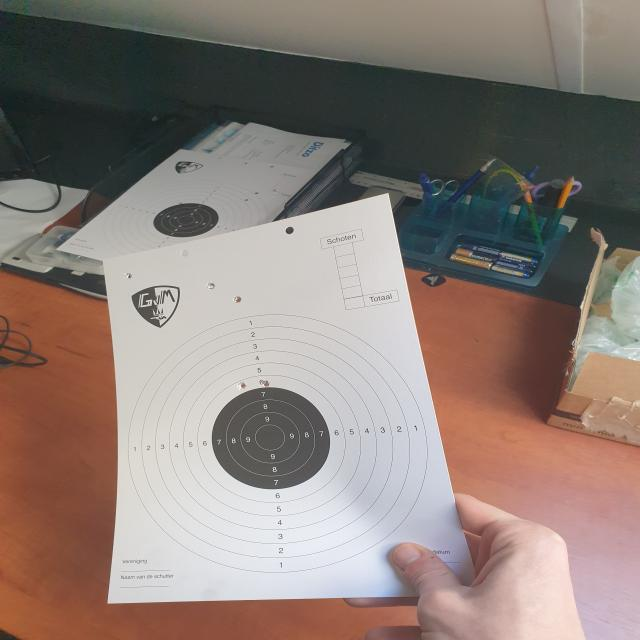0: (231, 295, 243, 304), (206, 281, 216, 290), (124, 273, 133, 279)
6: (235, 381, 248, 390), (259, 380, 271, 388)
Target: (127, 314, 430, 573)
black_contour: (211, 388, 331, 488)
